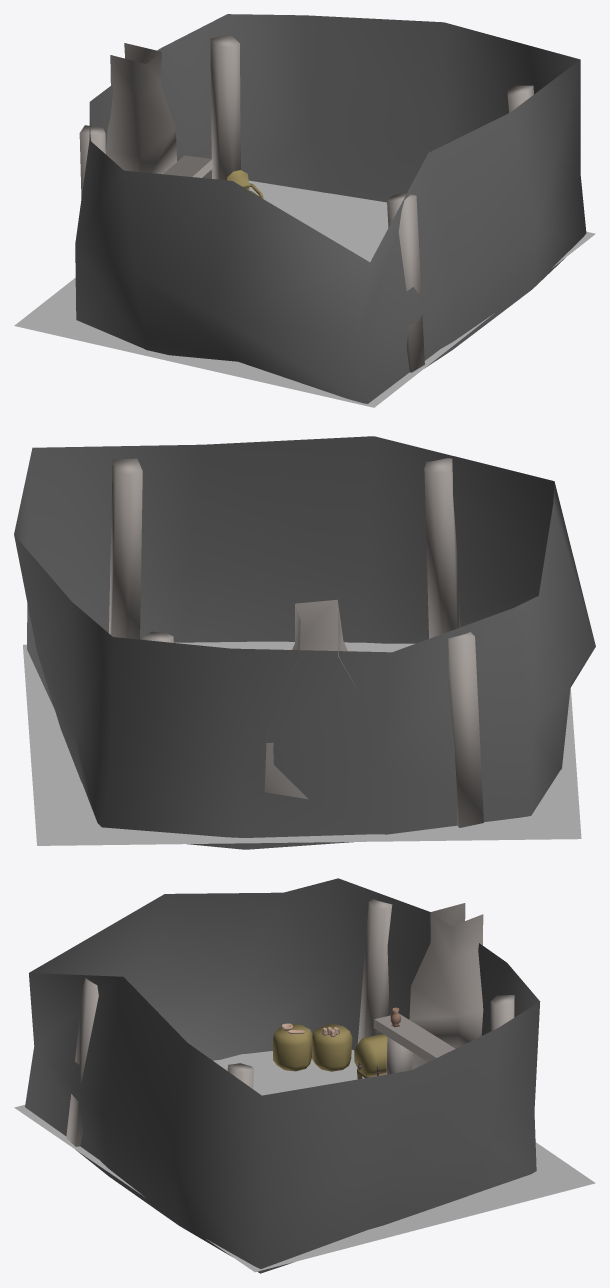
Rendered from dwarfhalla room v1.fbx.
3 views of the same model, one above another, from view 1: azimuth 30°, elevation 25°; view 2: azimuth 150°, elevation 25°; view 3: azimuth 270°, elevation 25° (orthographic). The views are drawn at different scales.
Parts seen in each view (by area): view 1: s.0064, p.0023, s.0069, s.0066, s.0061, s.0067, p.0054; view 2: s.0064, p.0023, s.0065, s.0061, s.0067, s.0069; view 3: s.0064, p.0023, s.0069, s.0067, s.0061, p.0054, s.0103, s.0105, s.0106, s.0056, s.0066.
Part boxes in pixels (x1,y1,x2,y2): s.0064: (75, 14, 586, 403); p.0023: (14, 180, 595, 407); s.0069: (106, 43, 176, 174); s.0066: (210, 34, 240, 180); s.0061: (387, 193, 424, 372); s.0067: (79, 125, 105, 198); p.0054: (163, 155, 212, 177); s.0064: (14, 436, 595, 849); p.0023: (23, 641, 581, 845); s.0065: (109, 458, 142, 639); s.0061: (424, 458, 460, 638); s.0067: (448, 632, 483, 827); s.0069: (264, 599, 356, 799); s.0064: (25, 878, 540, 1273); p.0023: (14, 1050, 595, 1272); s.0069: (409, 903, 483, 1069); s.0067: (357, 899, 392, 1043); s.0061: (66, 978, 98, 1146); p.0054: (373, 1014, 455, 1061); s.0103: (312, 1023, 352, 1071); s.0105: (273, 1023, 312, 1071); s.0106: (354, 1034, 387, 1076); s.0056: (386, 1037, 412, 1074); s.0066: (490, 995, 514, 1031).
Size of the model in its own units: 40921 by 14889 by 39651.
